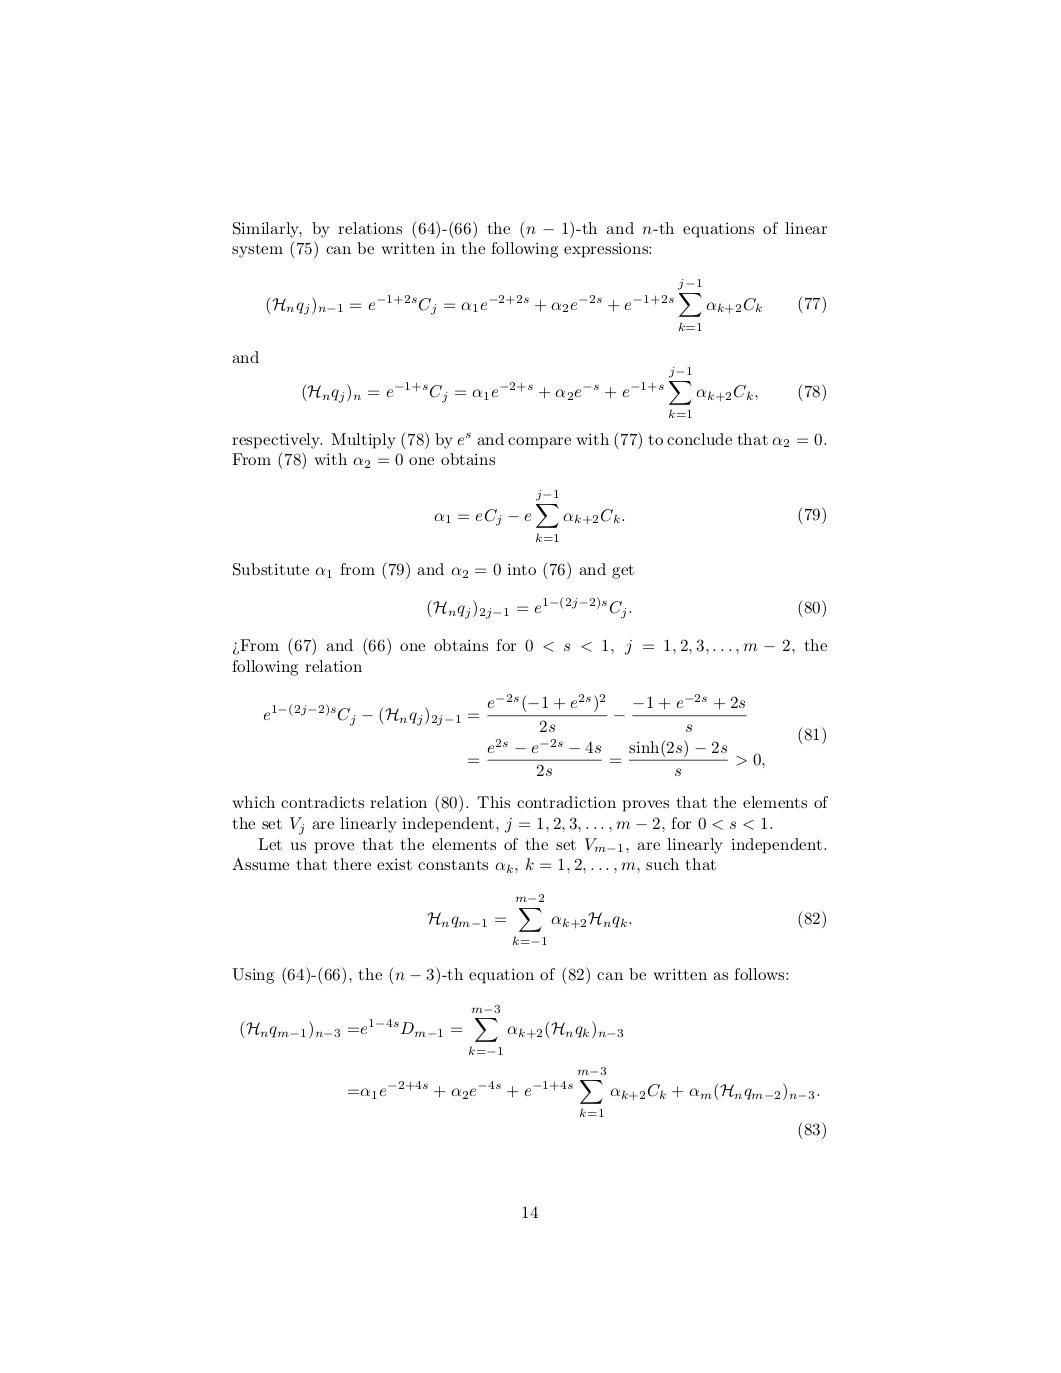formula: (263, 692, 825, 777), (266, 279, 825, 330), (302, 367, 825, 417), (348, 1067, 819, 1116), (427, 894, 825, 944), (434, 490, 825, 541), (240, 1005, 623, 1054), (427, 596, 825, 619)
